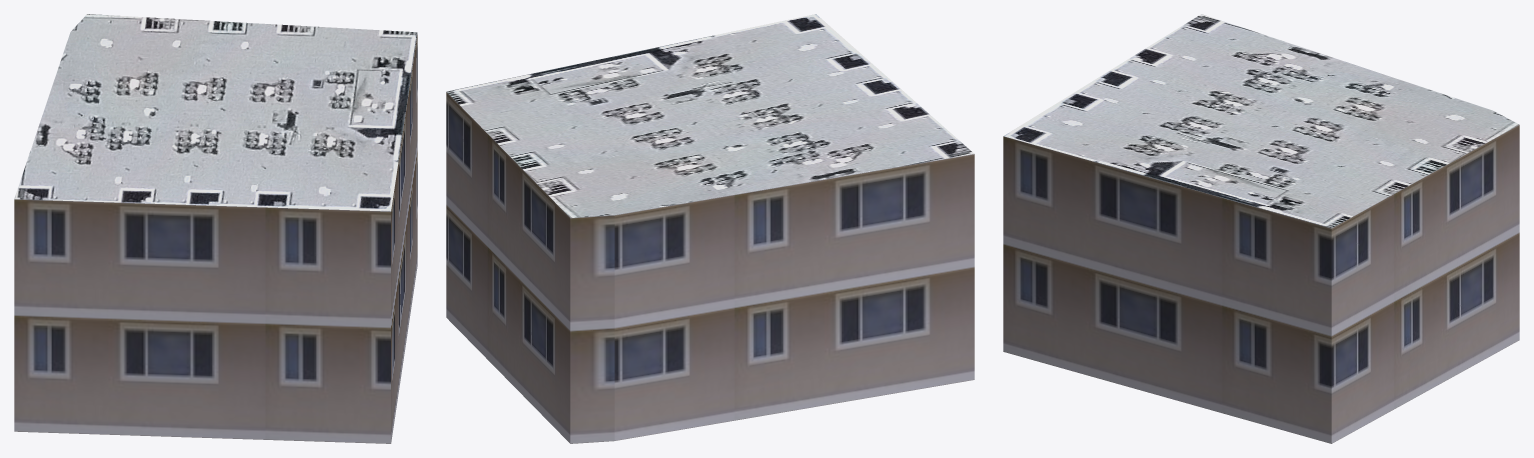
The model's file is ResTex__2845.fbx.
3 views of the same model, side by side, from view 1: azimuth 30°, elevation 25°; view 2: azimuth 150°, elevation 25°; view 3: azimuth 270°, elevation 25° (orthographic). The views are drawn at different scales.
Visible parts, largest first — view 1: CityEngineMaterial_21_m, CityEngineMaterial_8_m; view 2: CityEngineMaterial_21_m, CityEngineMaterial_8_m; view 3: CityEngineMaterial_21_m, CityEngineMaterial_8_m.
Part boxes in pixels (left/top/right/bottom): CityEngineMaterial_21_m: left=14, top=34, right=417, bottom=443; CityEngineMaterial_8_m: left=14, top=14, right=417, bottom=211; CityEngineMaterial_21_m: left=446, top=92, right=974, bottom=443; CityEngineMaterial_8_m: left=446, top=14, right=974, bottom=217; CityEngineMaterial_21_m: left=1003, top=125, right=1519, bottom=443; CityEngineMaterial_8_m: left=1003, top=14, right=1519, bottom=228.
Size of the model in its own units: 12.8 by 6 by 13.02.
2 materials, 2 textured.
